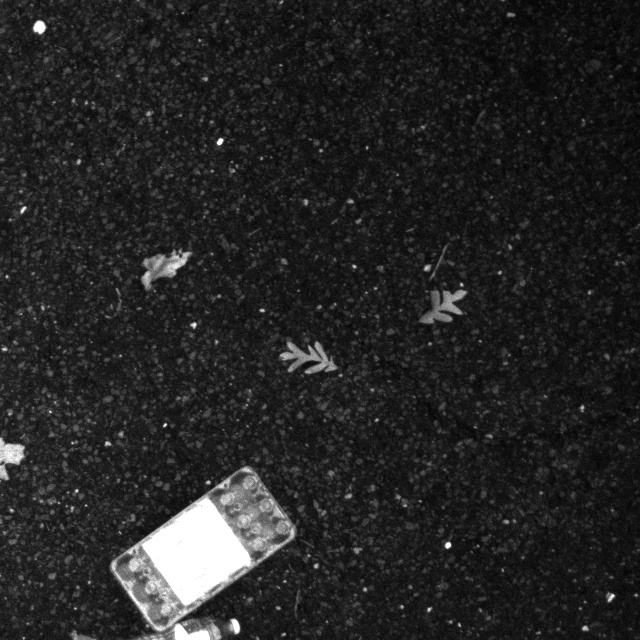container: (102, 463, 298, 632)
